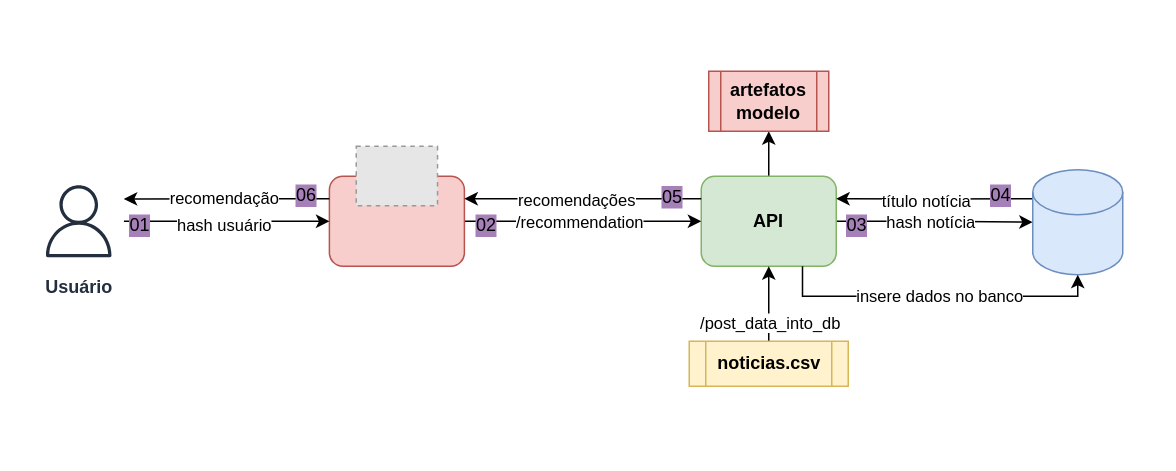
This 1176x471 diagram has some shape labels left out. Grey dashed boxes stand in for pictures. The centre of each missing label's shape, as x and y in pixels:
MongoDB: point 1077,221
UI: point 396,220
